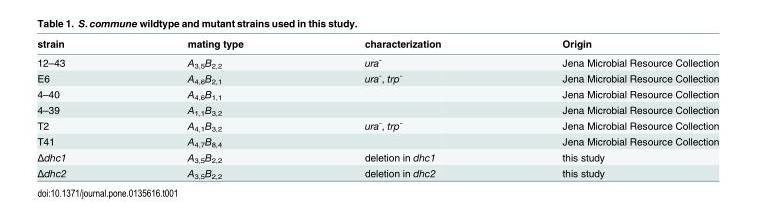table: (36, 37, 718, 179)
table column: (500, 37, 718, 179), (303, 37, 500, 179), (126, 37, 303, 179), (36, 37, 126, 179)
table column header: (36, 37, 718, 51)
table row: (36, 51, 718, 69), (36, 69, 718, 86), (36, 101, 718, 117), (36, 117, 718, 133), (36, 133, 718, 149), (36, 149, 718, 165), (36, 86, 718, 101), (36, 37, 718, 51), (36, 165, 718, 179)
